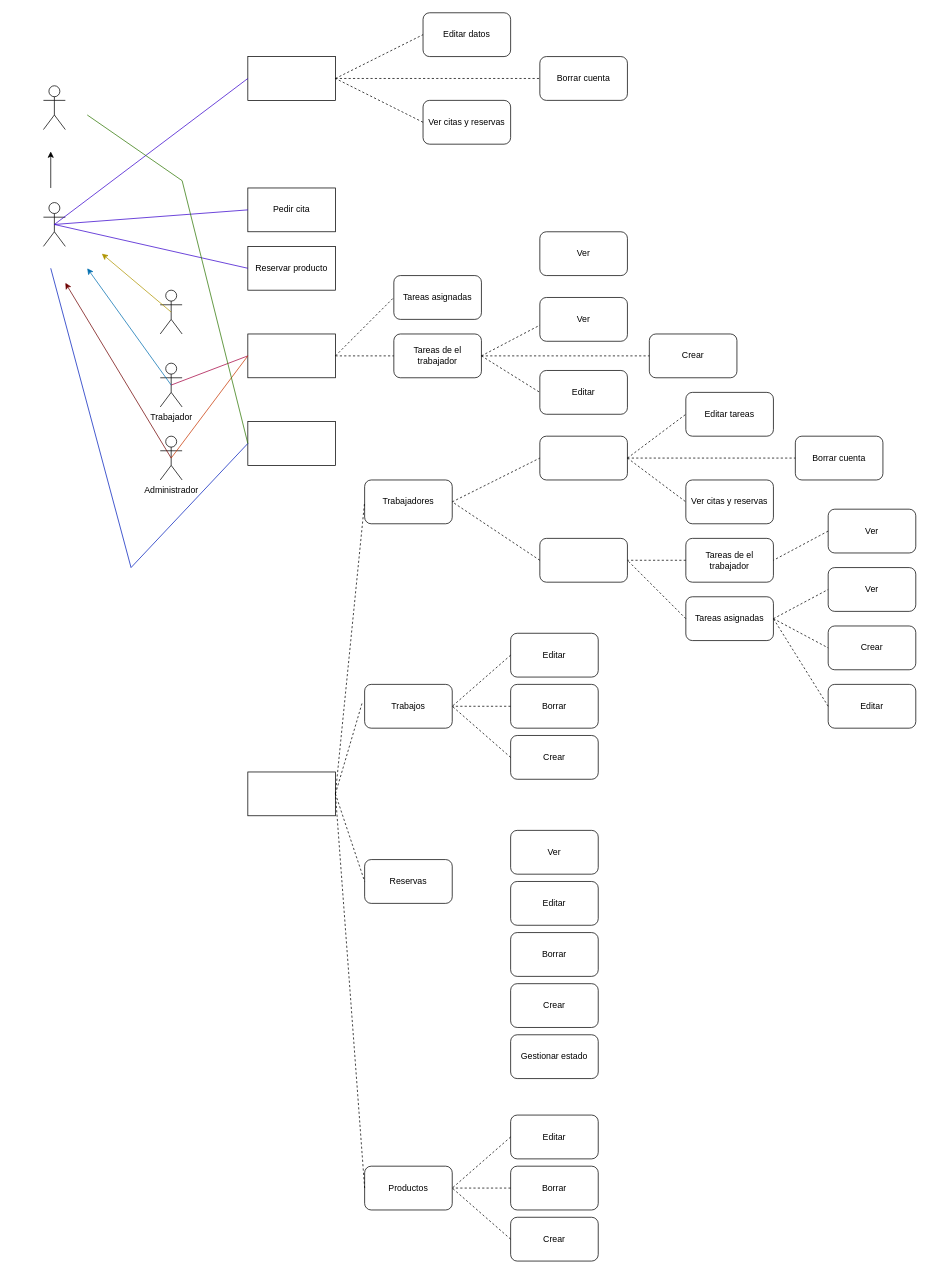
Some shapes in this 929 by 1274 pixel diagram are drawn without their labels. The shapes that lost their labels are listed below. From the top down, each one's box as (x1, y1, x2, y2) in pixels, then its label:
(247, 56, 335, 100): Ver perfil propio
(43, 85, 65, 130): Usuario no registrado
(43, 202, 65, 246): Usuario registrado
(160, 289, 182, 334): Cliente
(247, 333, 335, 378): Calendario
(247, 421, 335, 465): Ver pagina principal
(539, 435, 627, 480): Ver perfil trabajador
(539, 538, 627, 582): Ver calendario trabajador
(247, 771, 335, 816): Gestionar
